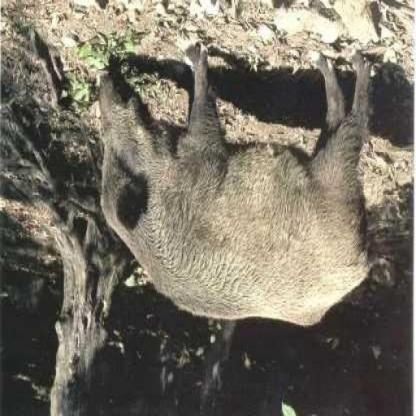boar: (79, 61, 415, 331)
